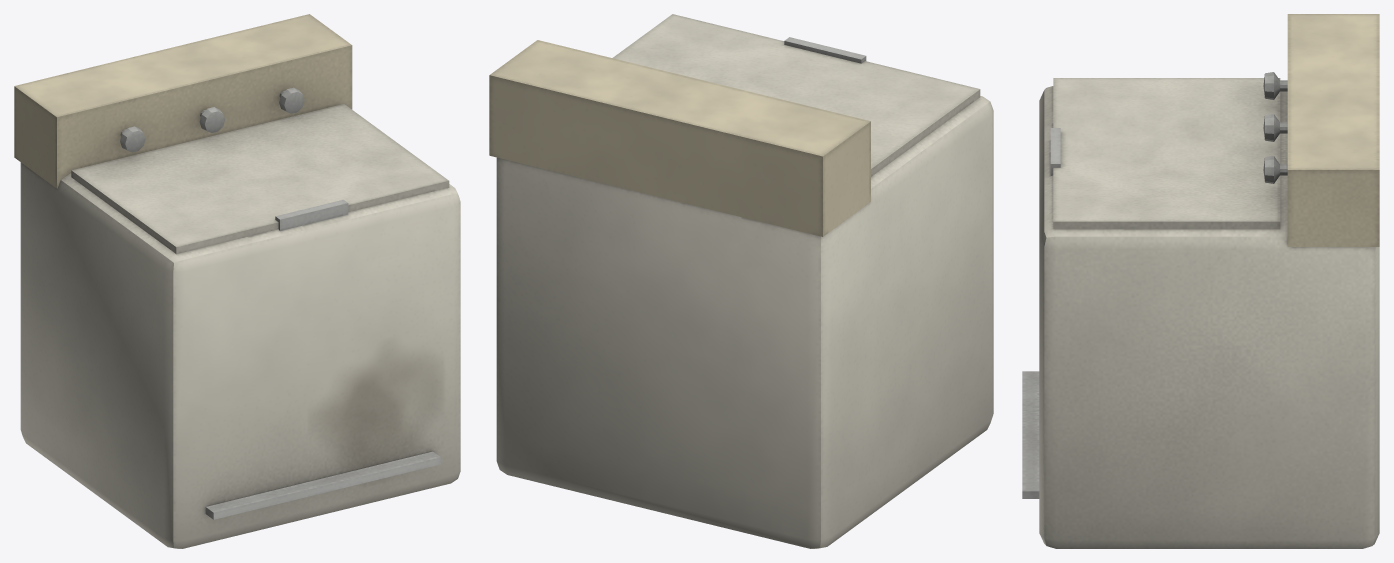
File: H_WashingMachine.fbx
The picture shows the model from 3 angles, left to right: view 1: azimuth 30°, elevation 25°; view 2: azimuth 150°, elevation 25°; view 3: azimuth 270°, elevation 25°; orthographic projection. The views are drawn at different scales.
Visible parts, largest first — view 1: H_WashingMachine; view 2: H_WashingMachine; view 3: H_WashingMachine.
Boxes of the visible parts, left/top/right/bottom form: H_WashingMachine: left=14, top=14, right=460, bottom=548; H_WashingMachine: left=489, top=14, right=993, bottom=548; H_WashingMachine: left=1022, top=14, right=1379, bottom=548.
Bounding box in the file's own units: 260 × 300 × 252.
1 material, 1 textured.
